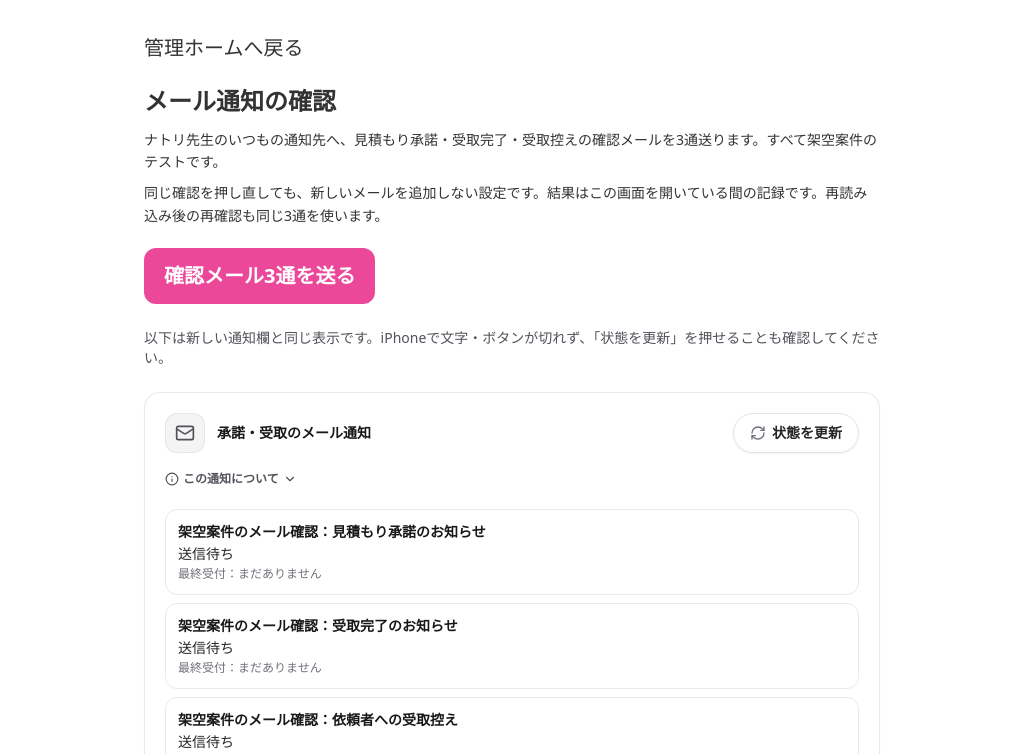
the gated mail verification screen › shows a request failure without claiming success
This screenshot has width=1024, height=754.
Click the button "確認メール3通を送る" at (260, 276), box [144,248,376,304]
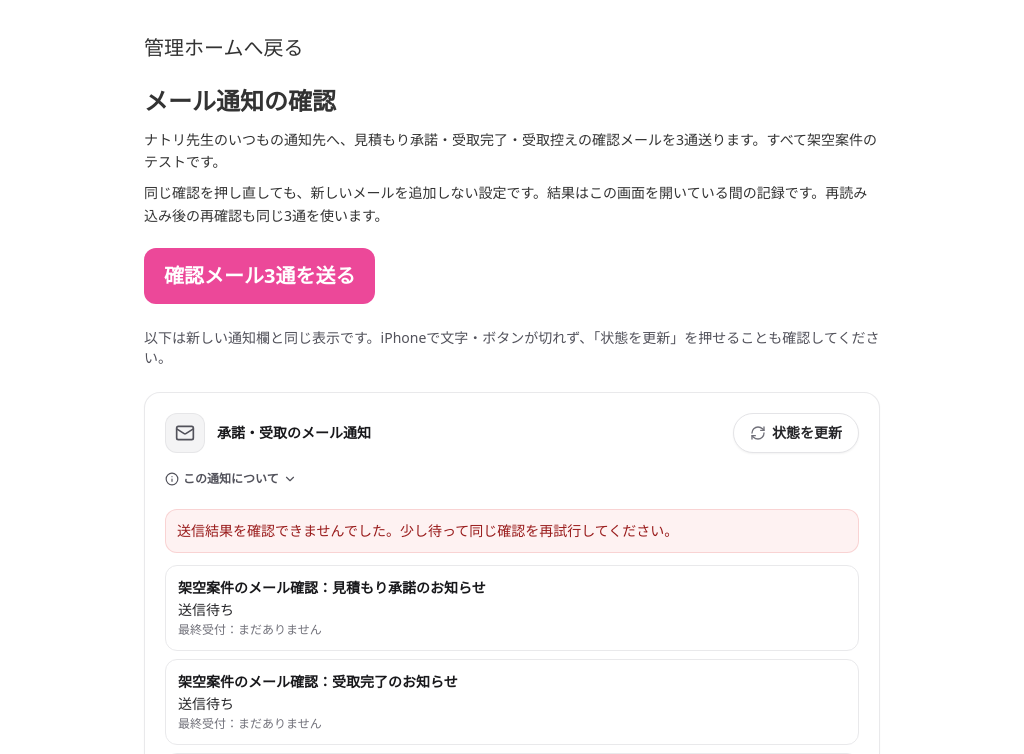
Expected: the message shows "送信結果を確認できませんでした", [177,521,678,540]
